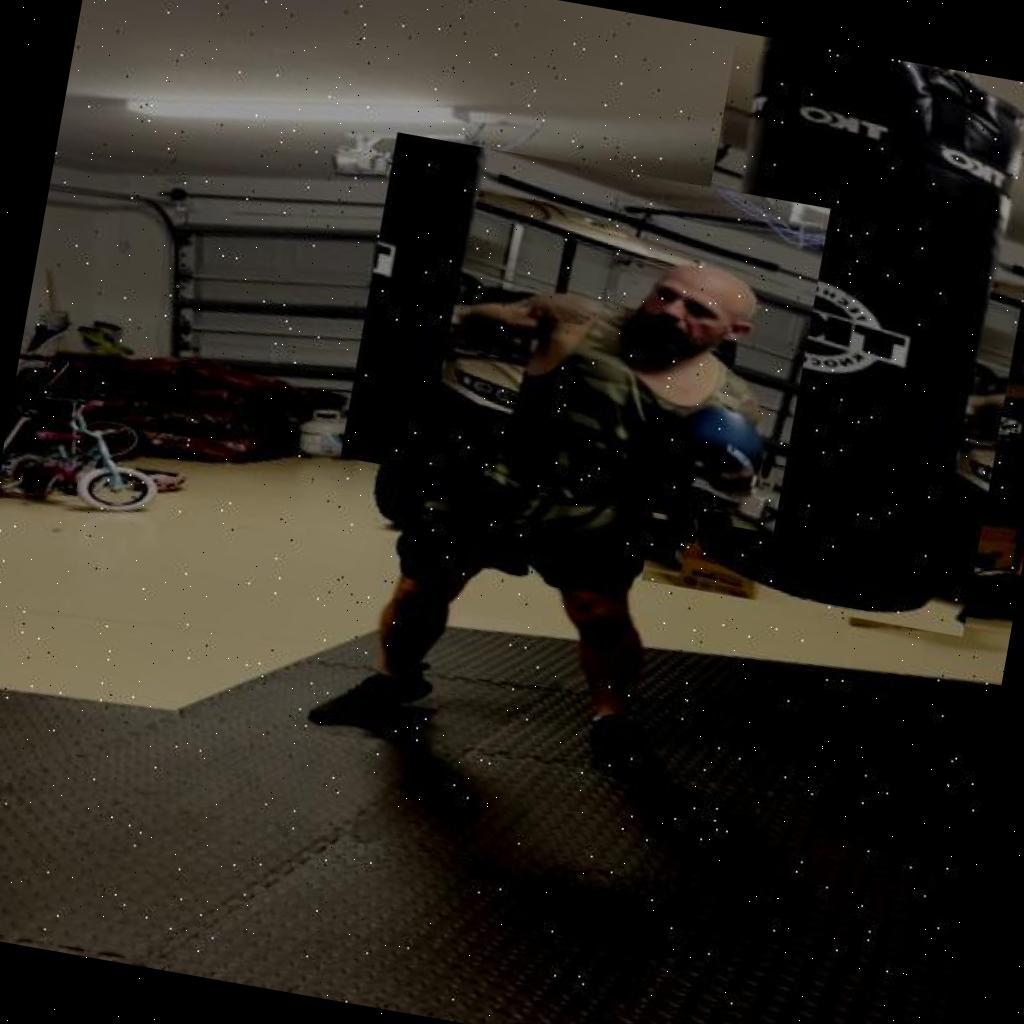bag: (641, 32, 1024, 635)
hook: (340, 132, 831, 534)
